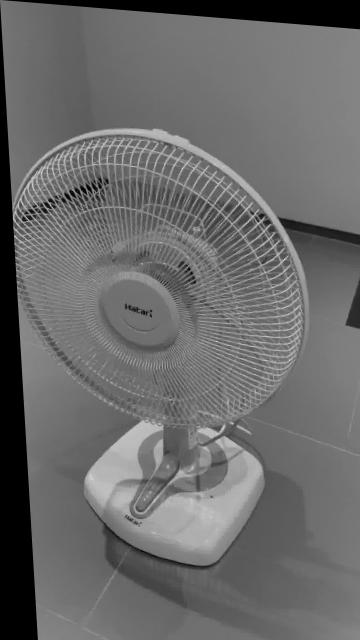Fan: (10, 129, 302, 567)
